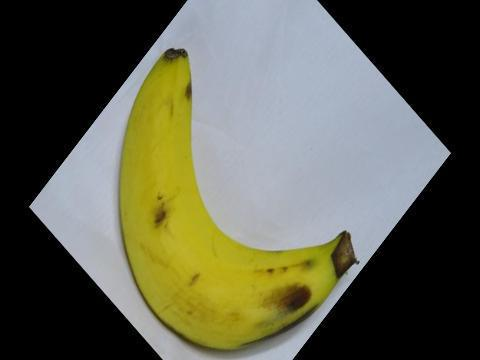freshripe: (99, 43, 384, 359)
